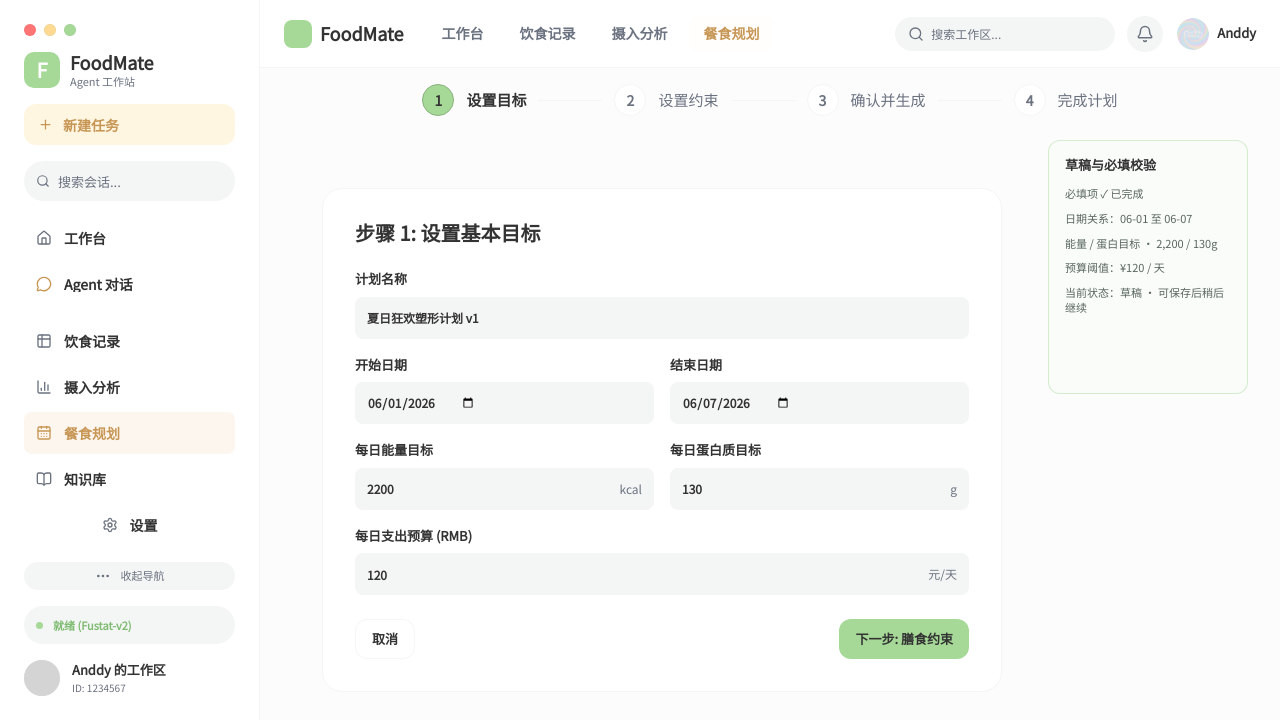
it: PlanningPage › moves through the wizard and supports cancelling generation
Click the button "下一步: 膳食约束". click: (904,639)
box: [840, 619, 969, 659]
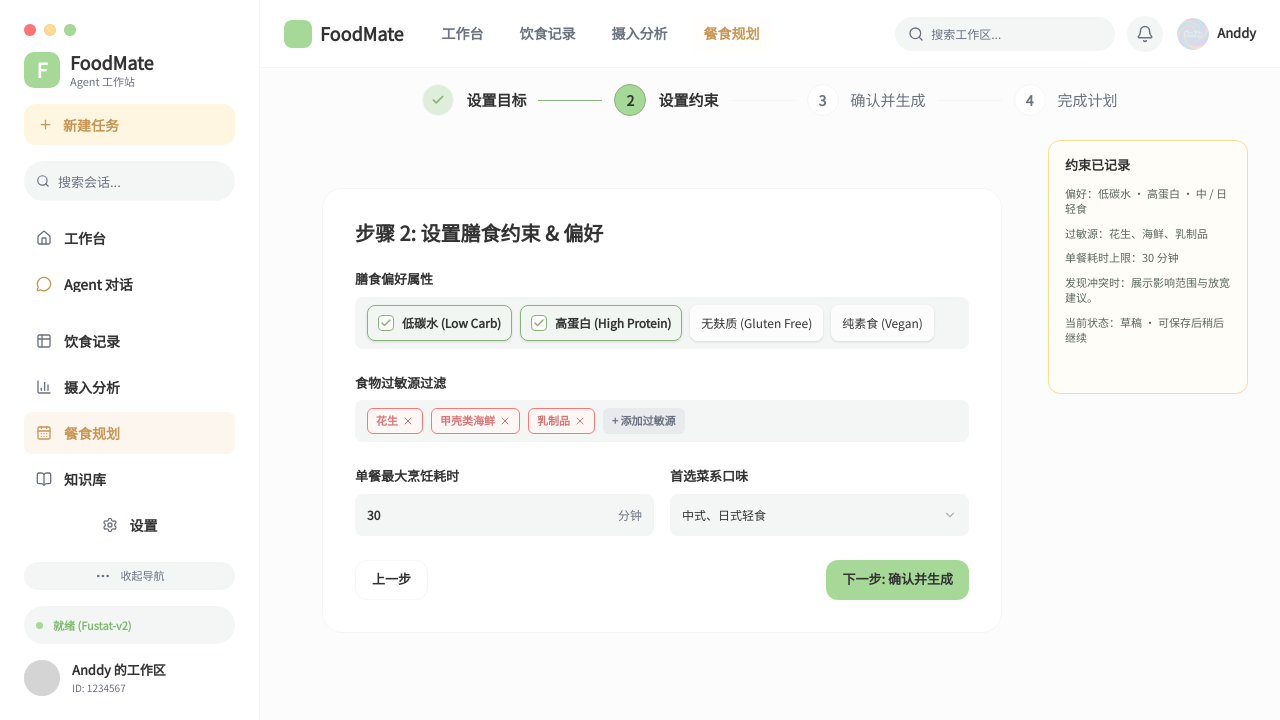
Now the heading "步骤 2: 设置膳食约束 & 偏好" is shown, box [355, 218, 603, 247]
Click the button "下一步: 确认并生成". click: (898,580)
box: [826, 560, 969, 600]
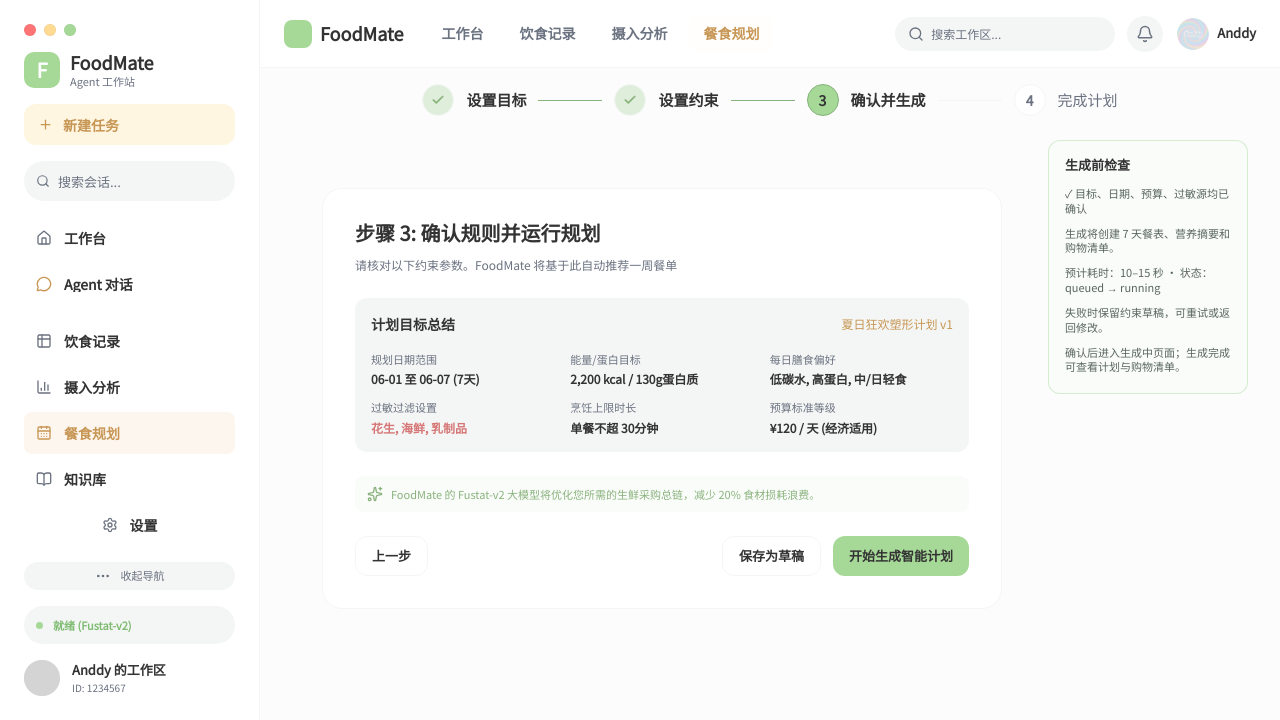
Now the heading "步骤 3: 确认规则并运行规划" is shown, box [355, 218, 601, 247]
Click the button "开始生成智能计划". click: (901,556)
box: [833, 536, 969, 576]
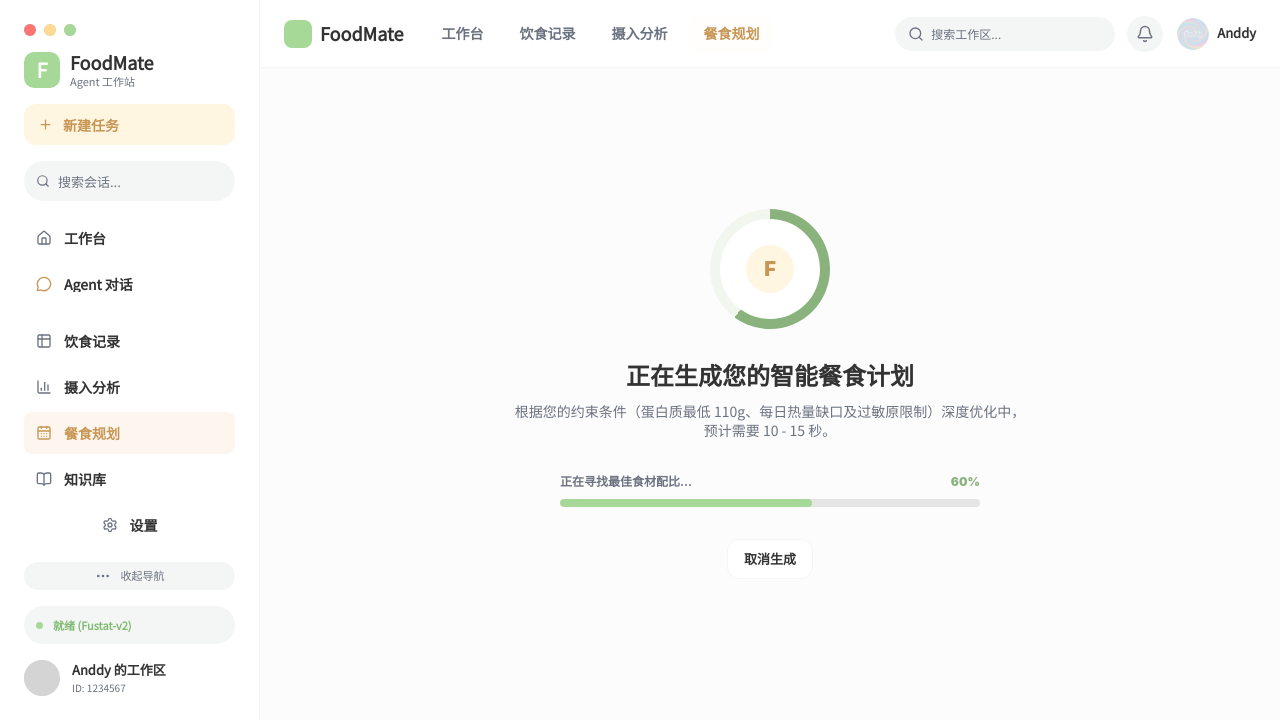
Now the heading "正在生成您的智能餐食计划" is shown, box [626, 357, 914, 392]
Click the button "取消生成". click: (770,559)
box: [727, 539, 813, 579]
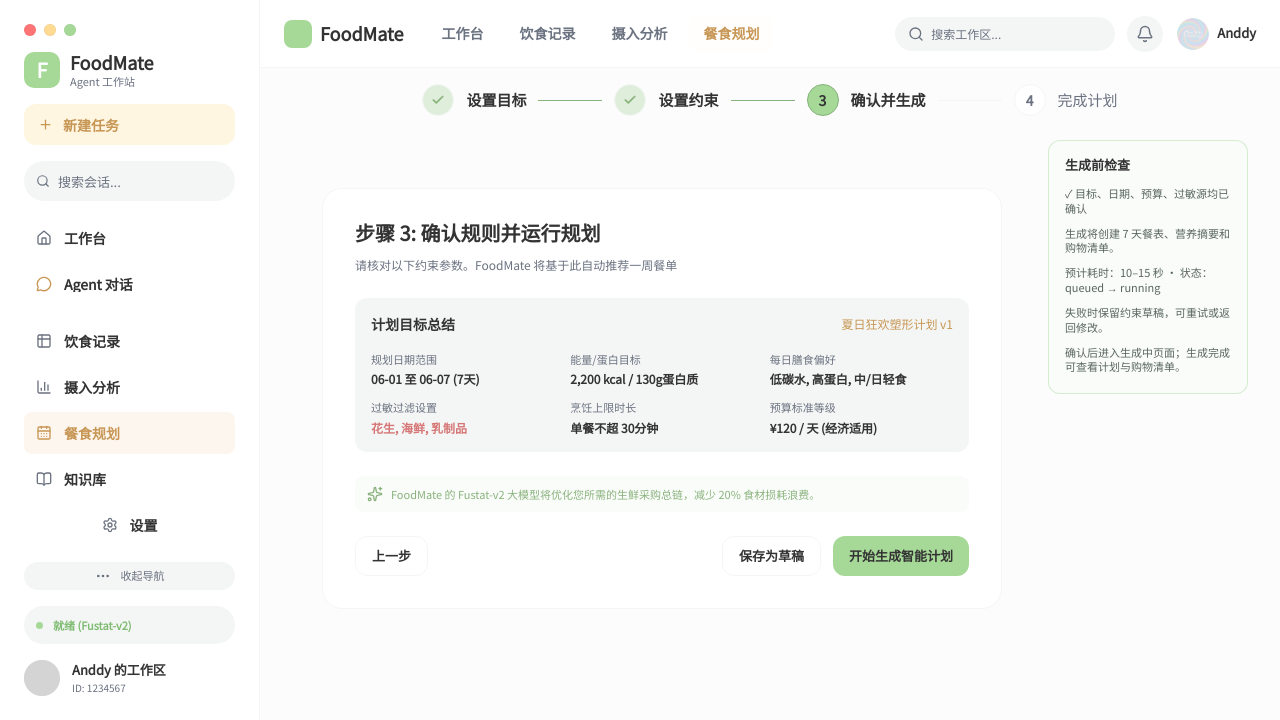
Now the heading "步骤 3: 确认规则并运行规划" is shown, box [355, 218, 601, 247]
